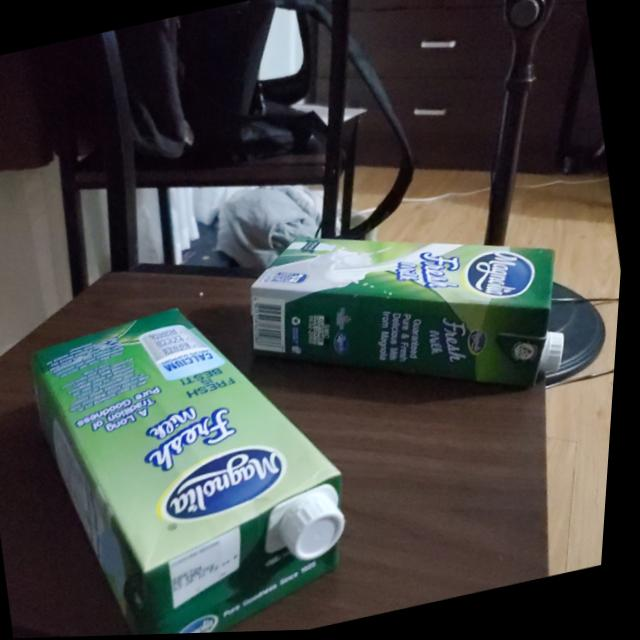milk: (7, 271, 387, 639), (233, 184, 589, 448)
